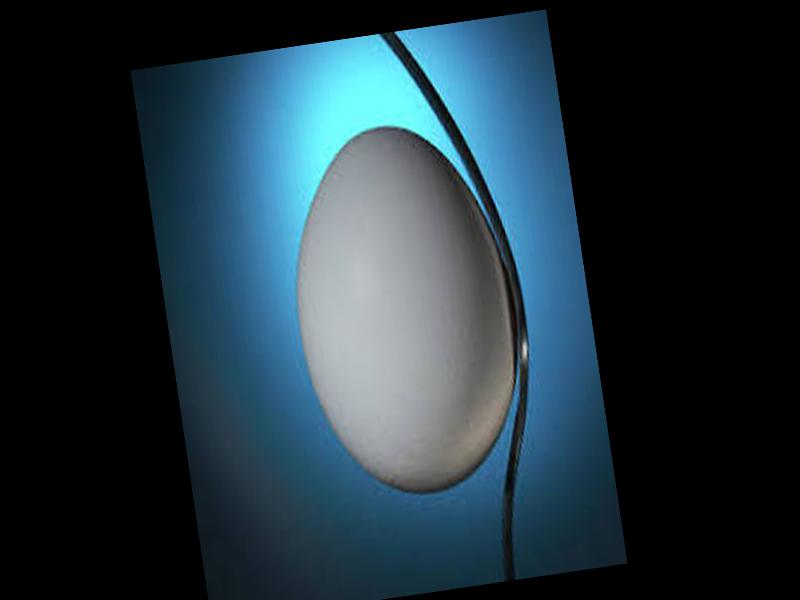Eggs: (275, 112, 535, 507)
